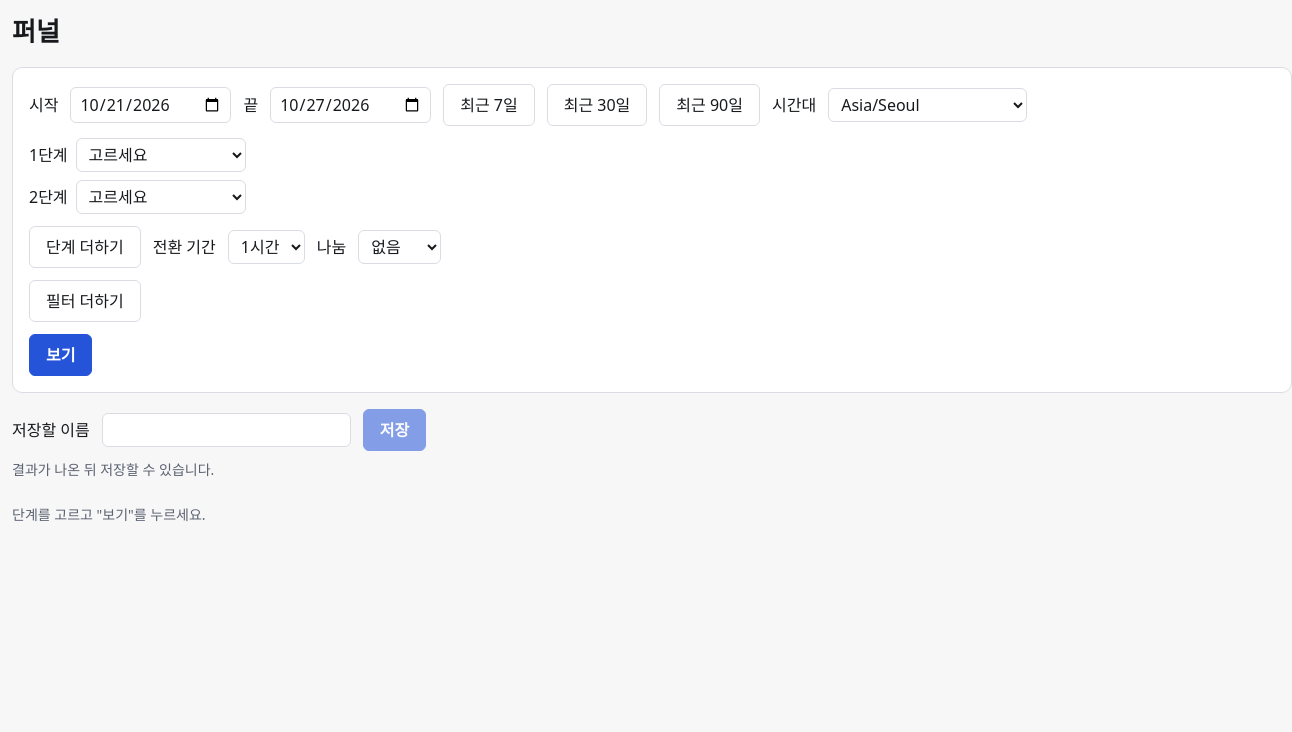
Test: FunnelsPage › 진입이 0이면 빈 막대 대신 안내
The image size is (1292, 732).
Select "list_viewed" in the dropdown labelled "1단계" at (161, 155), box [76,138,246,172]
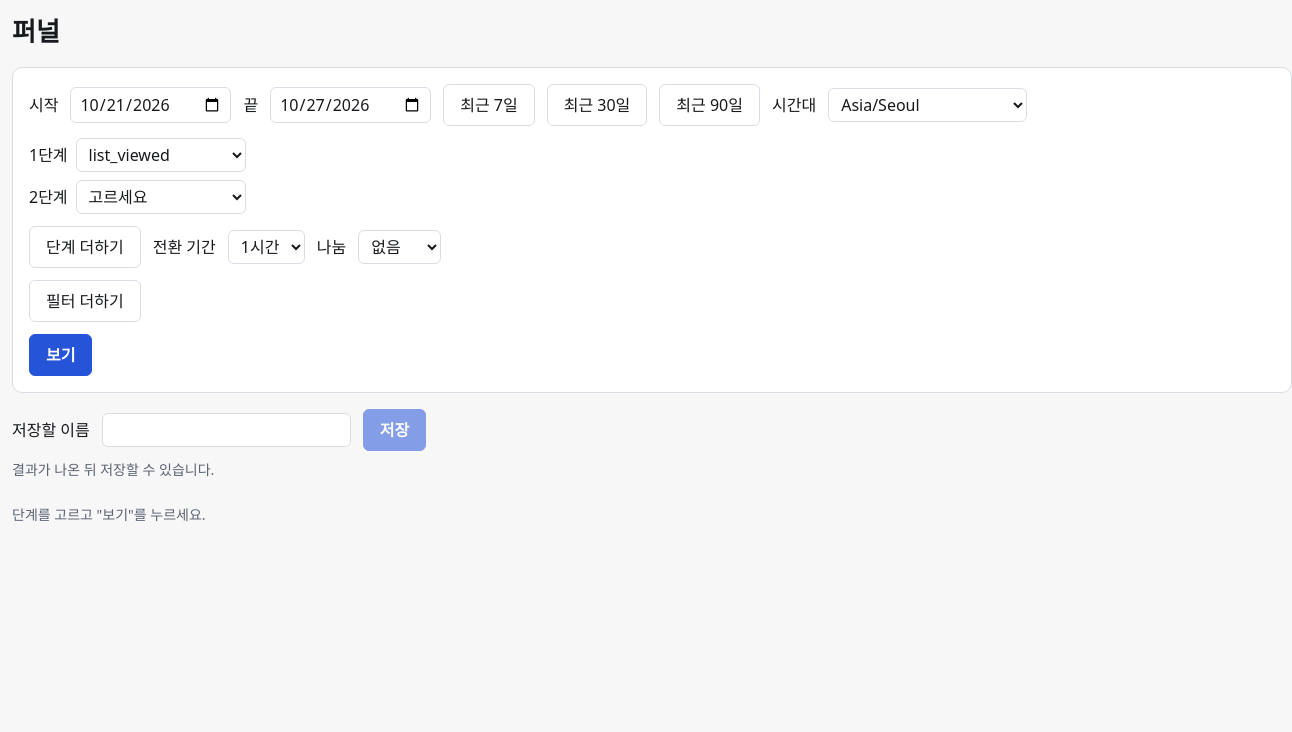
Select "seat_map_viewed" in the dropdown labelled "2단계" at (161, 197), box [76,180,246,214]
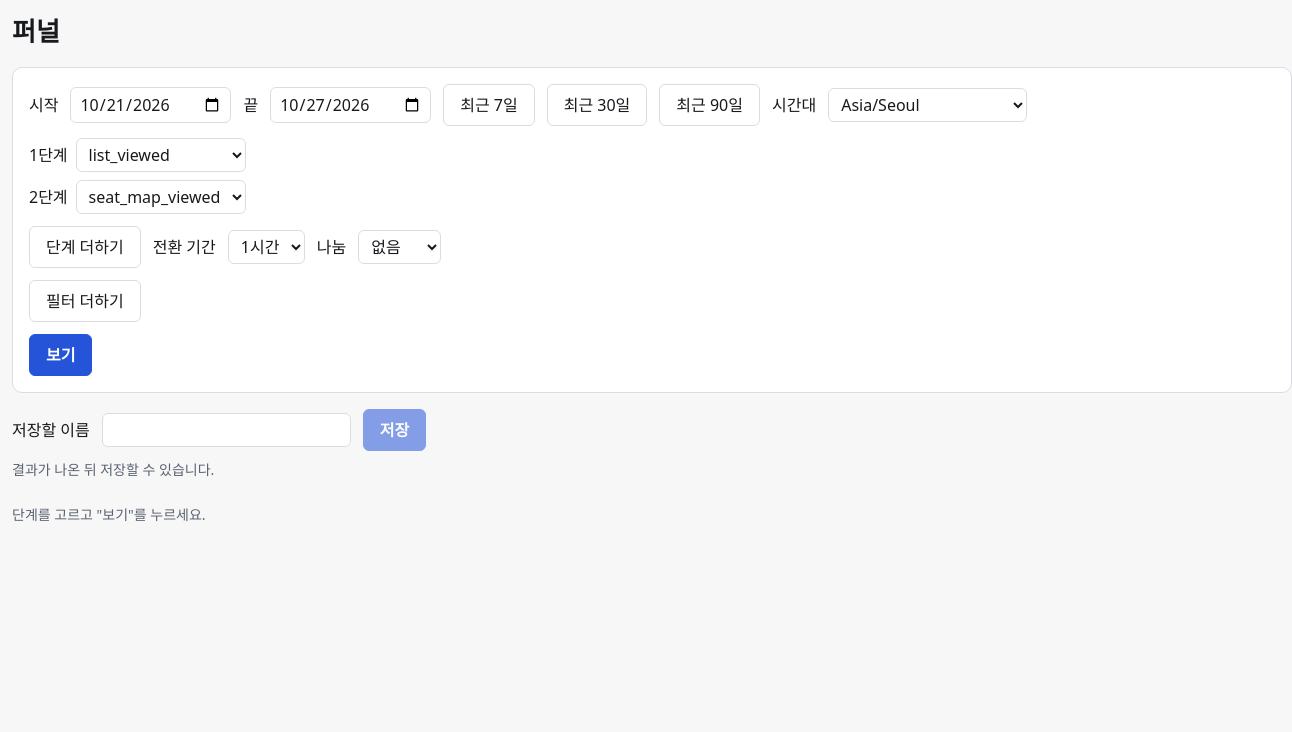
Click the button "보기" at (61, 355), box [29,334,92,376]
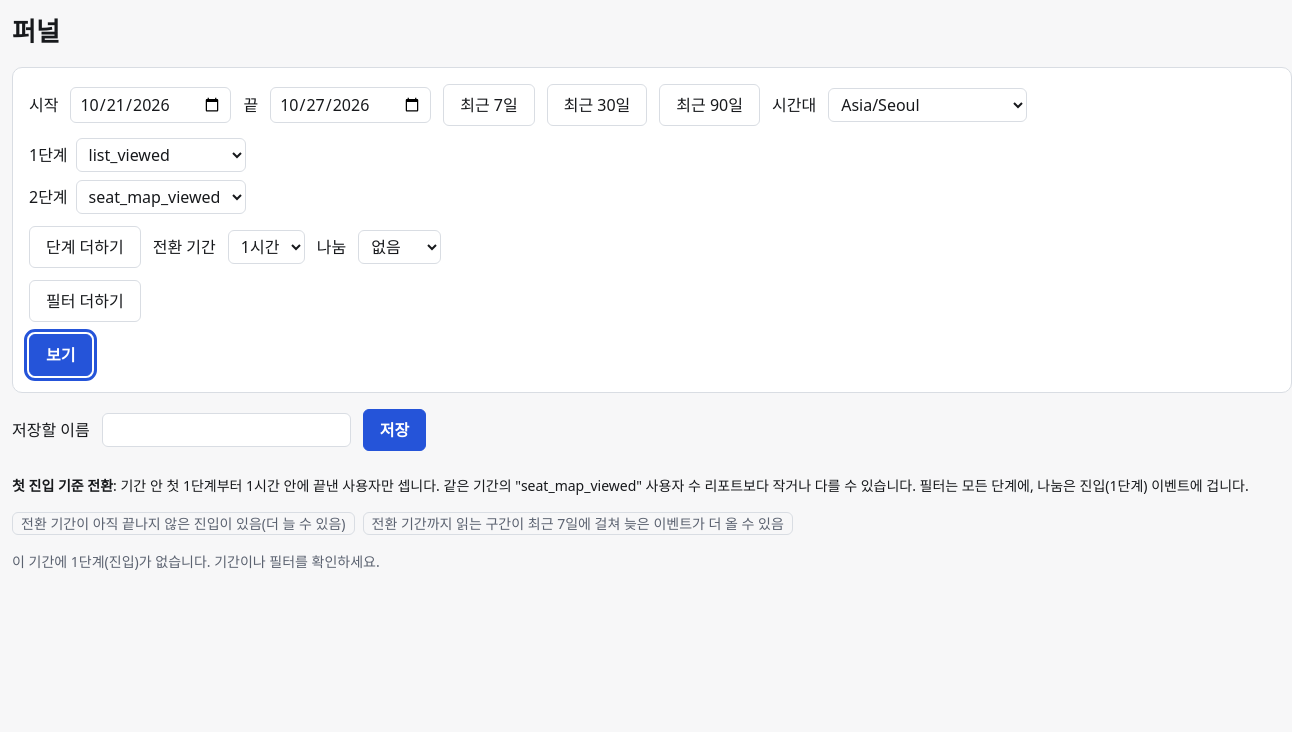
Expected: the text "이 기간에 1단계(진입)가 없습니다. 기간이나 필터를 확인하세요." is shown, [12,552,380,571]
